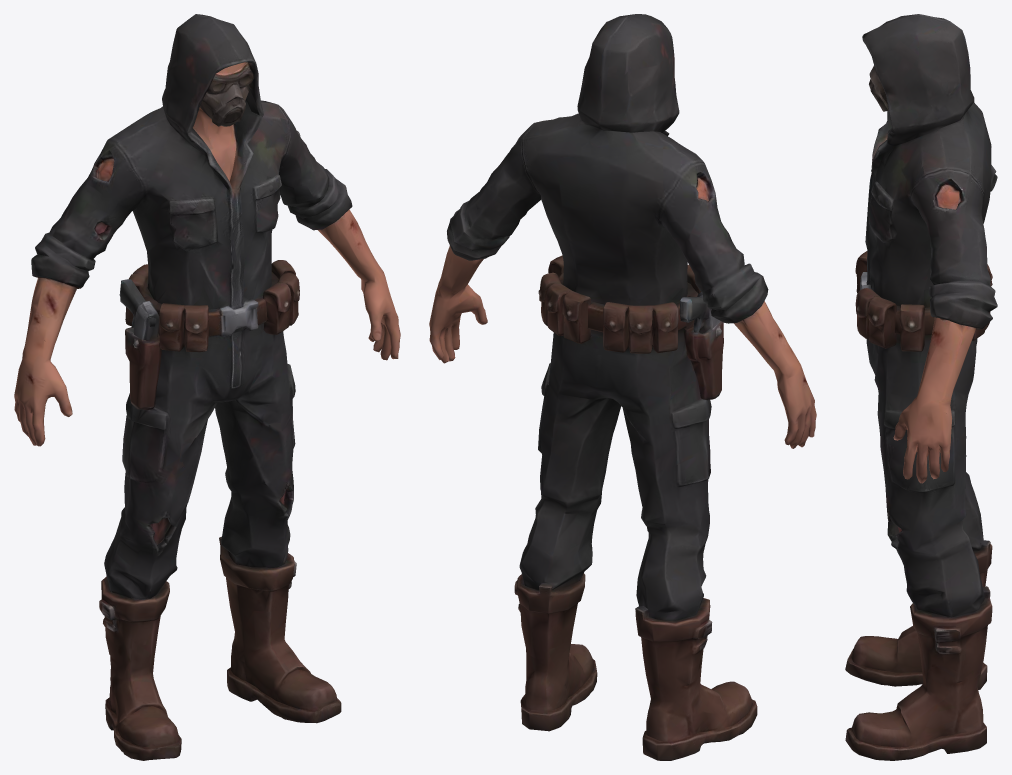
Rendered from survivor_base_igrok_idle.glb.
The picture shows the model from 3 angles, left to right: view 1: azimuth 30°, elevation 25°; view 2: azimuth 150°, elevation 25°; view 3: azimuth 270°, elevation 25°; orthographic projection.
Parts seen in each view (by area): view 1: tripo_node_6288f4c2-05ba-4bdc-a47a-d38b8cf87d00; view 2: tripo_node_6288f4c2-05ba-4bdc-a47a-d38b8cf87d00; view 3: tripo_node_6288f4c2-05ba-4bdc-a47a-d38b8cf87d00.
Part boxes in pixels (bbox=[...]): tripo_node_6288f4c2-05ba-4bdc-a47a-d38b8cf87d00: bbox=[14, 14, 400, 760]; tripo_node_6288f4c2-05ba-4bdc-a47a-d38b8cf87d00: bbox=[429, 14, 816, 760]; tripo_node_6288f4c2-05ba-4bdc-a47a-d38b8cf87d00: bbox=[845, 14, 997, 760].
Size of the model in its own units: 0.9982 by 1.8 by 0.3559.
Materials: 1 (1 with a texture image).
